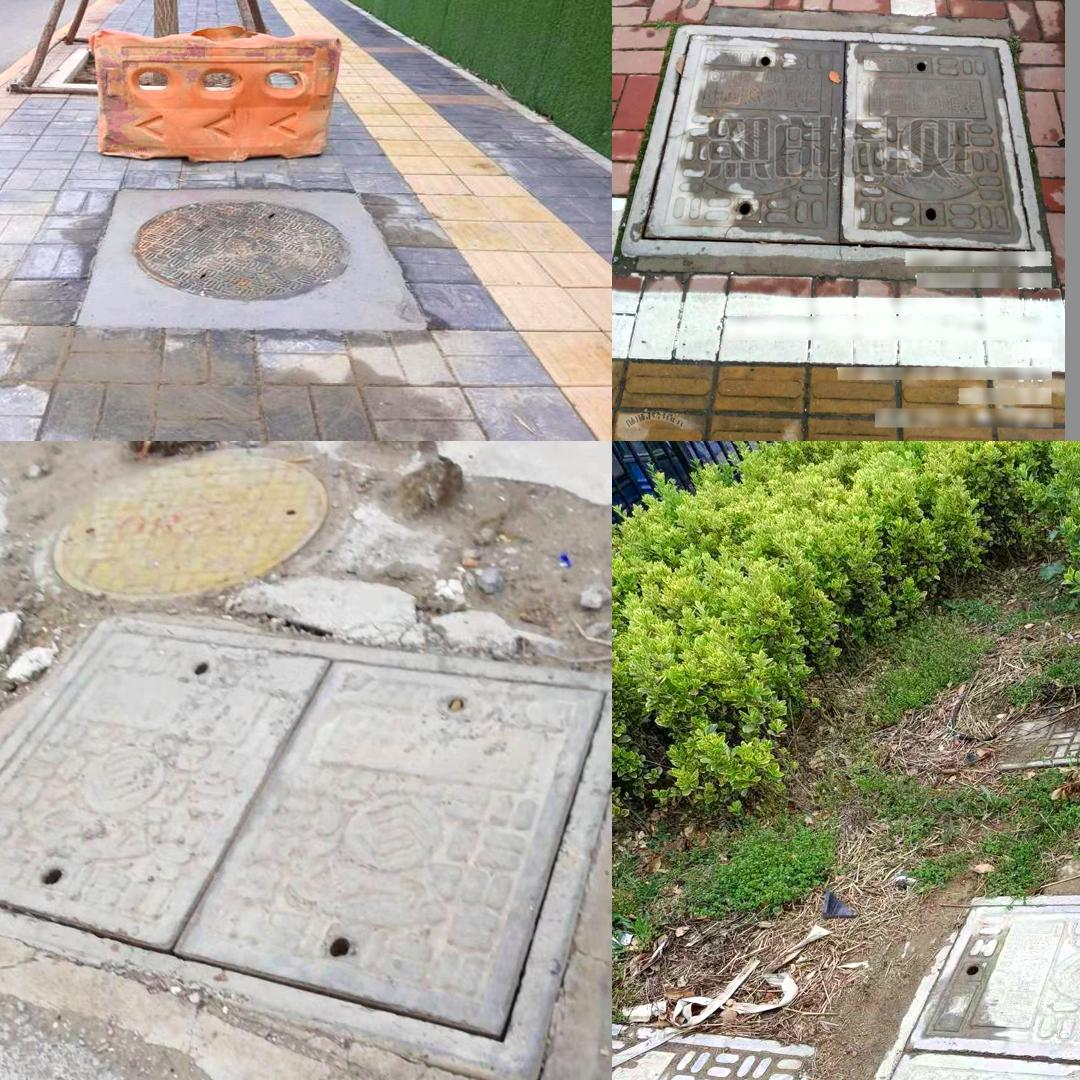good: (0, 613, 612, 1080), (620, 24, 1048, 258), (68, 176, 406, 353), (782, 895, 1080, 1080), (51, 450, 329, 601), (612, 1018, 836, 1080)
